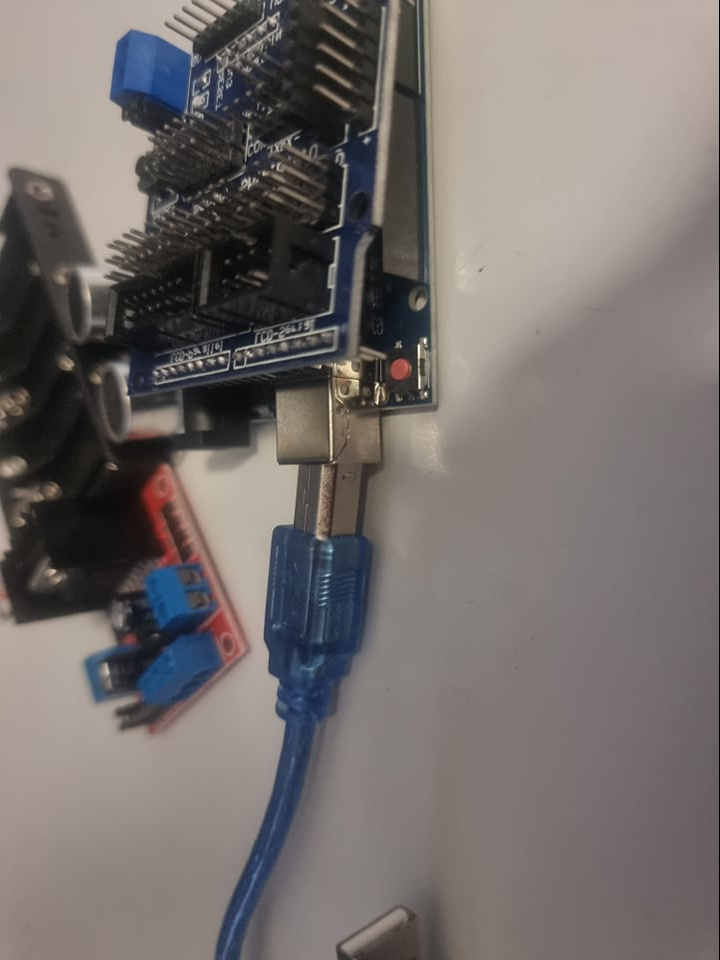5V EXPANSION: (103, 5, 365, 370)
BATTERY BOX: (1, 166, 93, 515)
MOTOR: (3, 467, 253, 738)
UNO R3: (138, 369, 449, 466)
